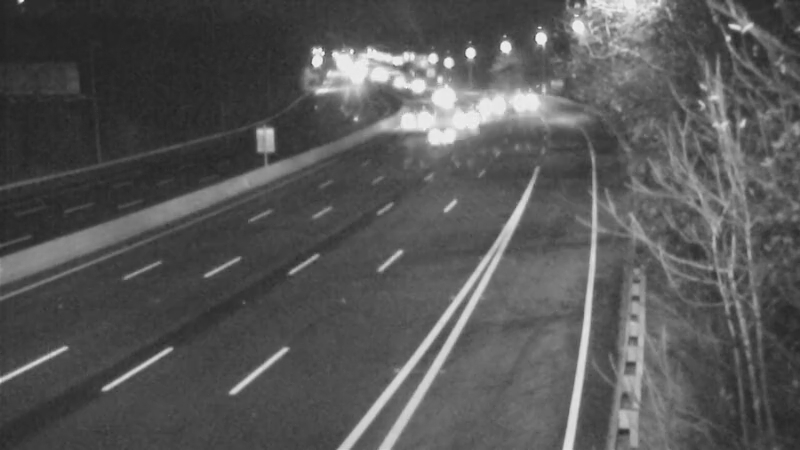vehicle: (375, 56, 425, 106), (392, 61, 442, 111), (414, 71, 464, 121), (495, 73, 545, 123), (466, 75, 516, 125), (439, 92, 489, 142), (389, 92, 439, 142), (413, 109, 463, 159)
